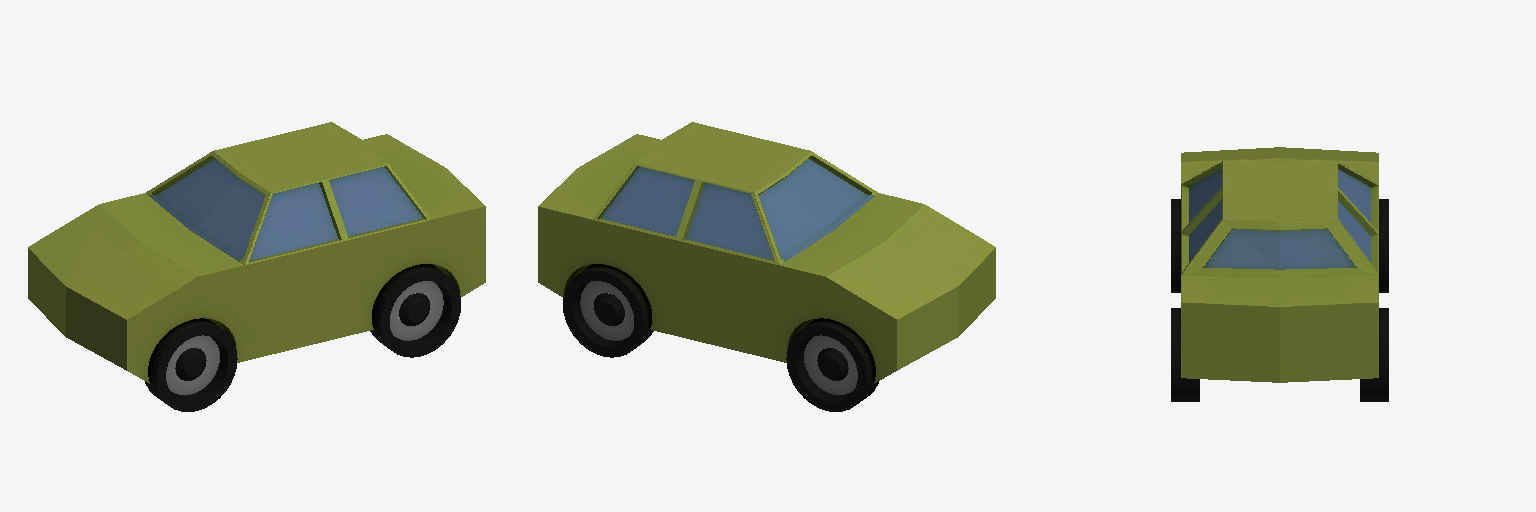
3 views of the same model, side by side, from view 1: azimuth 30°, elevation 25°; view 2: azimuth 150°, elevation 25°; view 3: azimuth 270°, elevation 25° (orthographic).
Visible parts, largest first — view 1: Yellow_Car; view 2: Yellow_Car; view 3: Yellow_Car.
Boxes of the visible parts, <box> form: Yellow_Car: <box>28,122,485,411</box>; Yellow_Car: <box>538,122,995,411</box>; Yellow_Car: <box>1171,147,1388,401</box>.
Size of the model in its own units: 5.22 by 2.3 by 2.59.
1 materials, 1 textured.